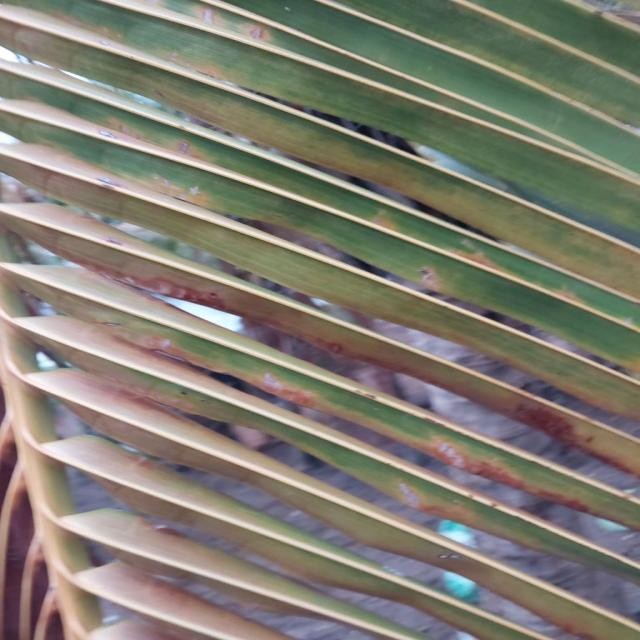gray leaf spot: (0, 27, 403, 640)
